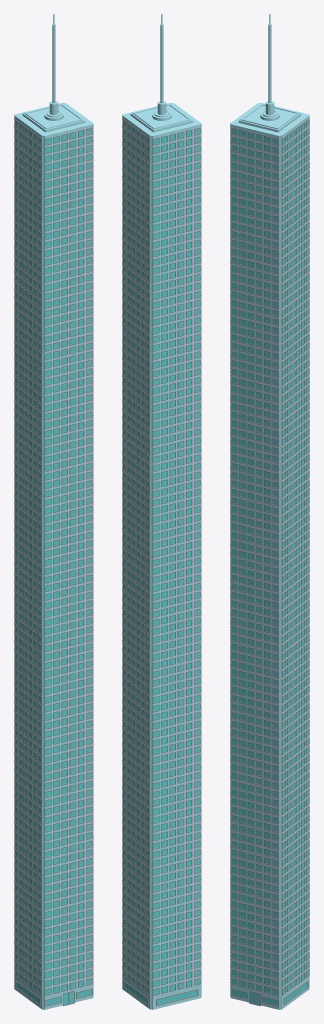
File: skyscraper.glb
3 views of the same model, side by side, from view 1: azimuth 30°, elevation 25°; view 2: azimuth 210°, elevation 25°; view 3: azimuth 330°, elevation 25° (orthographic).
Parts seen in each view (by area): view 1: Cube; view 2: Cube; view 3: Cube.
Boxes of the visible parts, x1,y1,x2,y2 form: Cube: [14, 14, 93, 1009]; Cube: [122, 14, 201, 1009]; Cube: [230, 14, 309, 1009].
Bounding box in the file's own units: 20.48 × 364 × 20.45.
